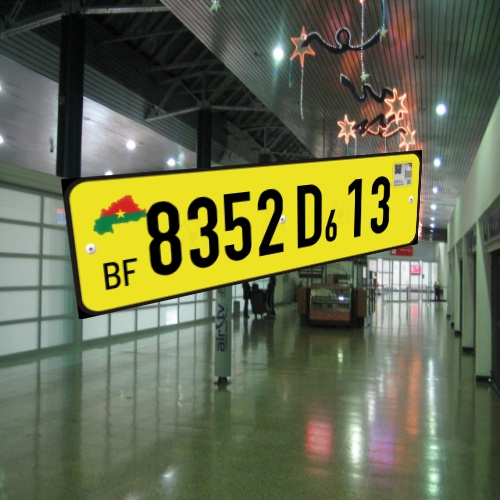plate: (45, 143, 443, 331)
